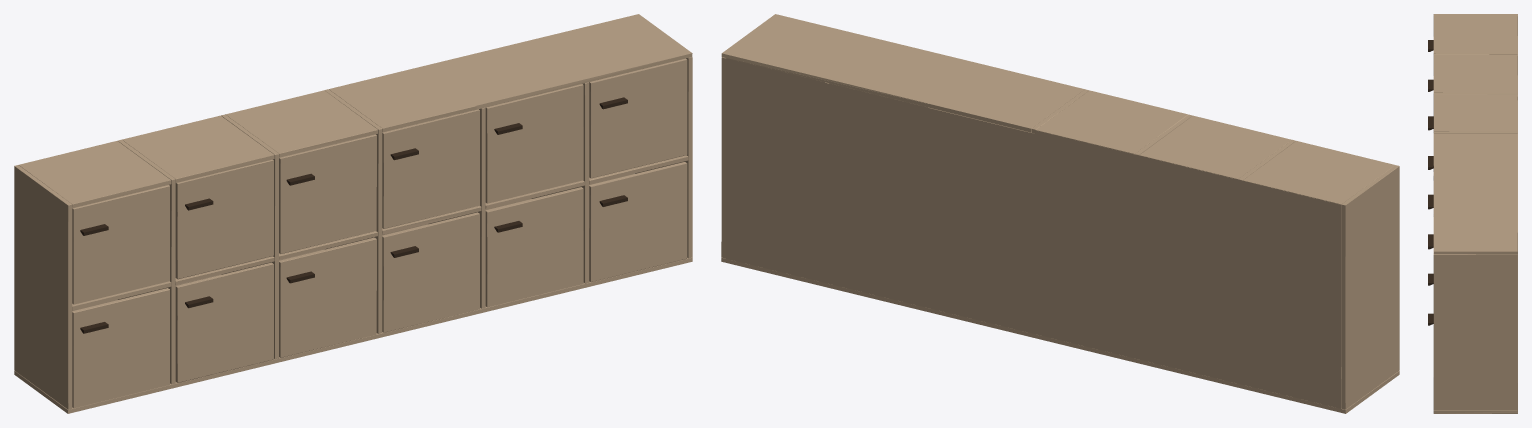
Rendered from School_Furniture.fbx.
3 views of the same model, side by side, from view 1: azimuth 30°, elevation 25°; view 2: azimuth 150°, elevation 25°; view 3: azimuth 270°, elevation 25° (orthographic). The views are drawn at different scales.
Parts seen in each view (by area): view 1: House furniture; view 2: House furniture; view 3: House furniture.
Part boxes in pixels (x1,y1,x2,y2): House furniture: (14,14,692,413); House furniture: (721,14,1399,413); House furniture: (1428,14,1517,413).
Bounding box in the file's own units: 235 × 75.08 × 37.59.
